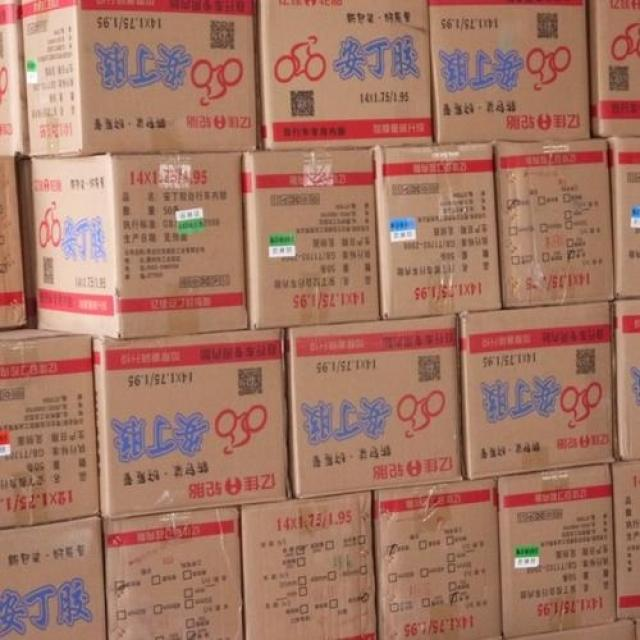box: (18, 148, 252, 339), (20, 0, 260, 159), (92, 330, 292, 518), (280, 316, 461, 497), (460, 303, 620, 477), (257, 1, 438, 151), (243, 146, 379, 330), (430, 1, 591, 147), (372, 145, 503, 324), (370, 481, 503, 637), (239, 490, 378, 639), (0, 324, 99, 530), (494, 140, 614, 308), (497, 467, 617, 634), (100, 506, 244, 639), (3, 512, 108, 639), (589, 1, 640, 140), (604, 137, 640, 301), (0, 0, 29, 161), (0, 156, 27, 328), (611, 462, 640, 621), (614, 300, 640, 461), (506, 621, 632, 639)
